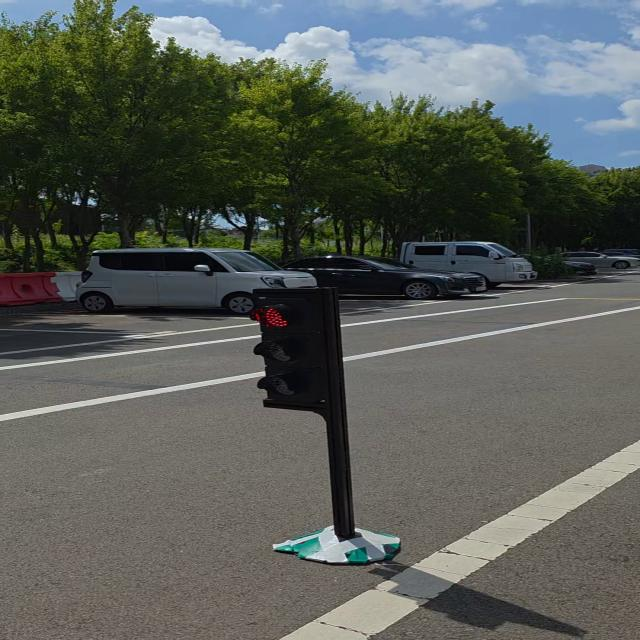red: (258, 289, 341, 407)
